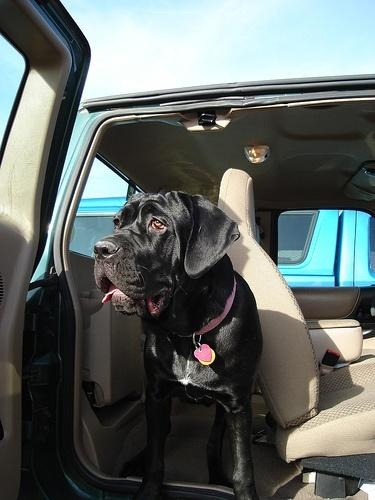dog: (94, 189, 258, 500)
